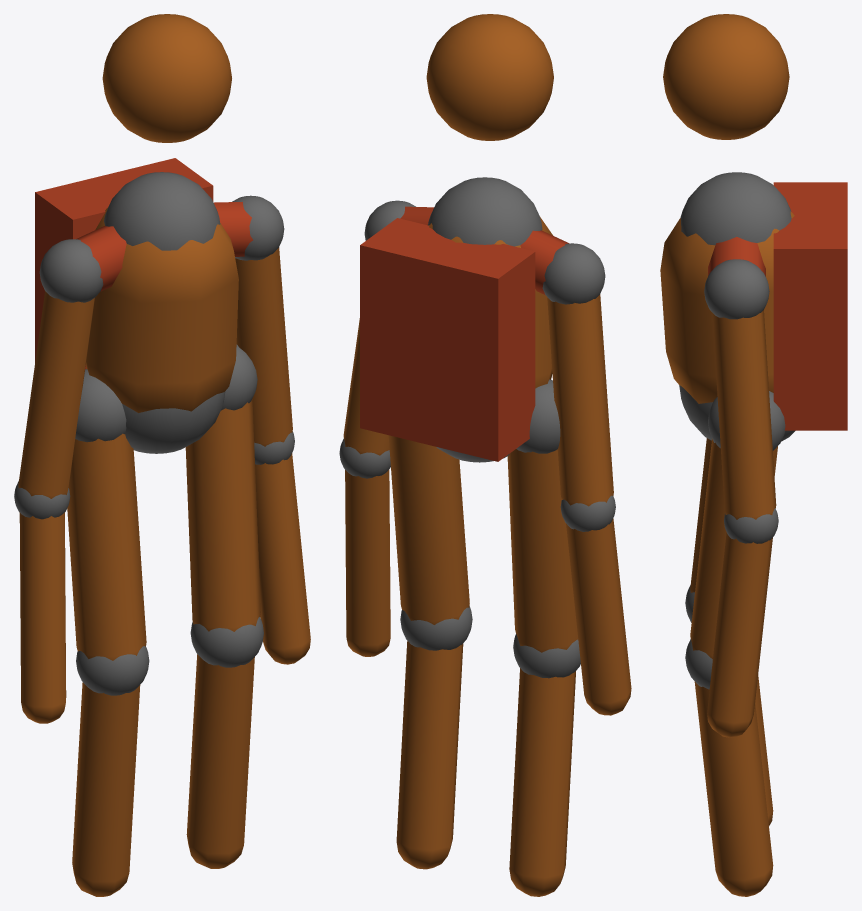
File: escalador_plantilla_piezas.glb
3 views of the same model, side by side, from view 1: azimuth 30°, elevation 25°; view 2: azimuth 150°, elevation 25°; view 3: azimuth 270°, elevation 25° (orthographic). The views are drawn at different scales.
Parts seen in each view (by area): view 1: pieza_torso, pieza_muslo_izq, pieza_muslo_der, pieza_cabeza, pieza_pantorrilla_der, pieza_pantorrilla_izq, pieza_brazo_sup_izq, pieza_antebrazo_izq, pieza_antebrazo_der, pieza_brazo_sup_der, junta_pecho, mochila (+11 smaller); view 2: mochila, pieza_cabeza, pieza_pantorrilla_der, pieza_pantorrilla_izq, pieza_muslo_der, pieza_muslo_izq, pieza_brazo_sup_izq, pieza_antebrazo_izq, pieza_antebrazo_der, junta_pecho, junta_hombro_izq, junta_rodilla_der (+8 smaller); view 3: mochila, pieza_cabeza, pieza_brazo_sup_der, pieza_pantorrilla_der, pieza_antebrazo_der, pieza_torso, junta_pecho, pieza_muslo_der, junta_hombro_der, junta_codo_der, tirante_der, junta_cadera_der (+4 smaller).
Part boxes in pixels (<box>): pieza_torso: <box>86,207,238,412</box>; pieza_muslo_izq: <box>67,433,146,660</box>; pieza_muslo_der: <box>185,399,260,631</box>; pieza_cabeza: <box>102,14,231,142</box>; pieza_pantorrilla_der: <box>186,654,254,868</box>; pieza_pantorrilla_izq: <box>72,682,140,896</box>; pieza_brazo_sup_izq: <box>18,291,94,498</box>; pieza_antebrazo_izq: <box>19,512,66,723</box>; pieza_antebrazo_der: <box>255,453,310,664</box>; pieza_brazo_sup_der: <box>235,247,292,446</box>; junta_pecho: <box>104,172,220,250</box>; mochila: <box>35,158,213,369</box>; mochila: <box>360,218,535,461</box>; pieza_cabeza: <box>426,14,553,140</box>; pieza_pantorrilla_der: <box>396,641,463,869</box>; pieza_pantorrilla_izq: <box>509,668,575,896</box>; pieza_muslo_der: <box>388,435,469,624</box>; pieza_muslo_izq: <box>507,449,578,652</box>; pieza_brazo_sup_izq: <box>547,294,613,506</box>; pieza_antebrazo_izq: <box>566,518,631,715</box>; pieza_antebrazo_der: <box>345,469,390,656</box>; junta_pecho: <box>428,177,542,246</box>; junta_hombro_izq: <box>542,243,605,304</box>; junta_rodilla_der: <box>400,606,472,650</box>; mochila: <box>773,182,847,430</box>; pieza_cabeza: <box>663,14,789,139</box>; pieza_brazo_sup_der: <box>712,310,776,519</box>; pieza_pantorrilla_der: <box>694,681,773,896</box>; pieza_antebrazo_der: <box>707,533,772,737</box>; pieza_torso: <box>660,211,794,403</box>; junta_pecho: <box>680,172,791,245</box>; pieza_muslo_der: <box>690,439,777,659</box>; junta_hombro_der: <box>704,259,769,319</box>; junta_codo_der: <box>724,508,778,543</box>; tirante_der: <box>708,237,765,276</box>; junta_cadera_der: <box>708,391,785,450</box>.
Size of the model in its own units: 0.6089 by 1.77 by 0.355.
